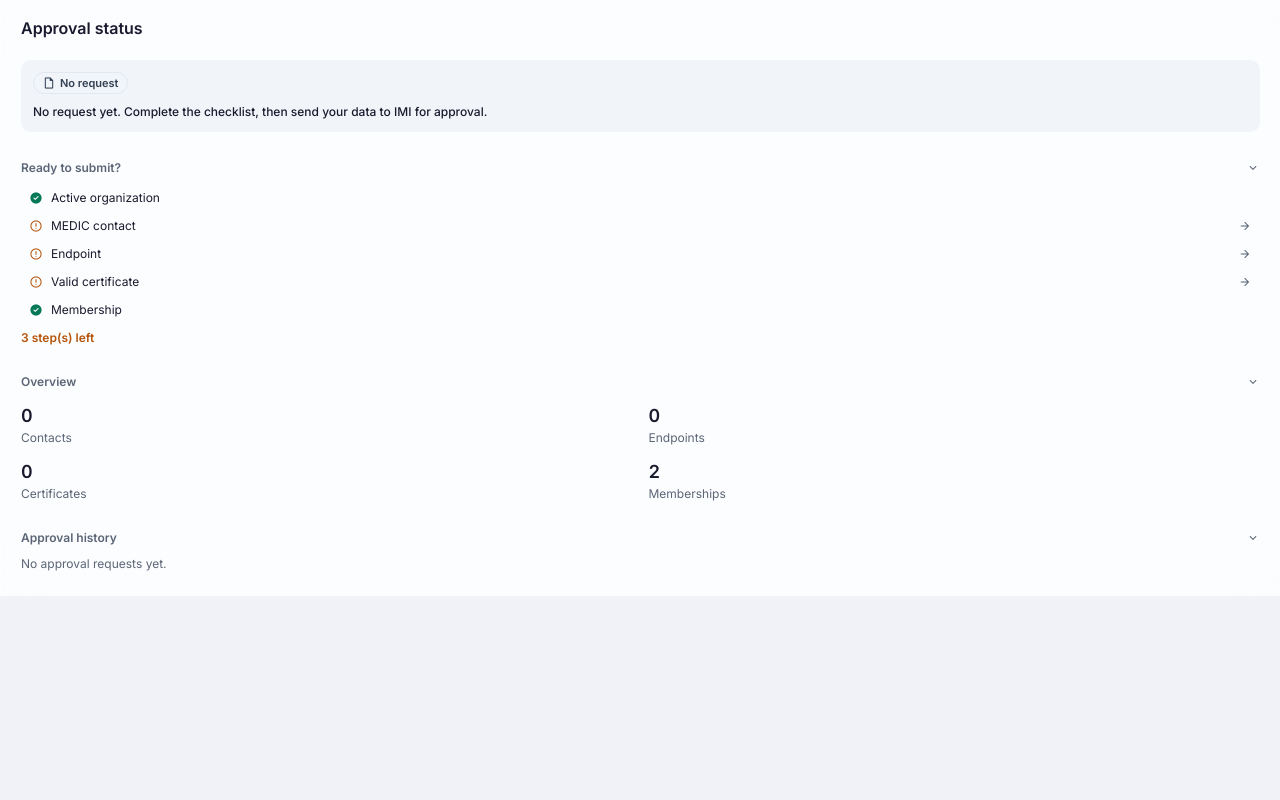
RightPanel › collapses and expands a section from its header
The width and height of the screenshot is (1280, 800).
What coordinates should you click on to do the following:
click the button "Overview"
I would click on:
 (49, 382)
Its box is [15,370,1266,394].
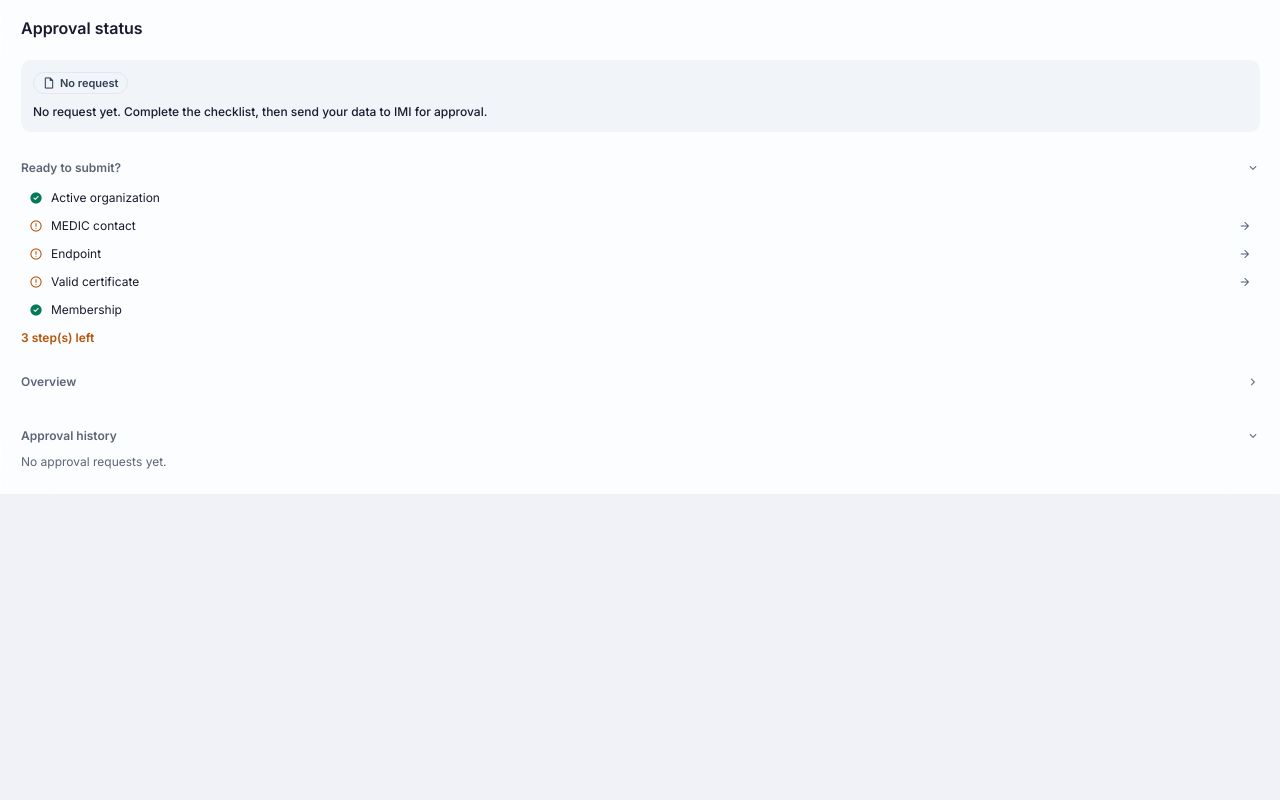
Now the button "Overview" is collapsed
Now the text "Memberships" is gone
What coordinates should you click on to do the following:
click the button "Overview"
I would click on:
 (49, 382)
Its box is [15,370,1266,394].
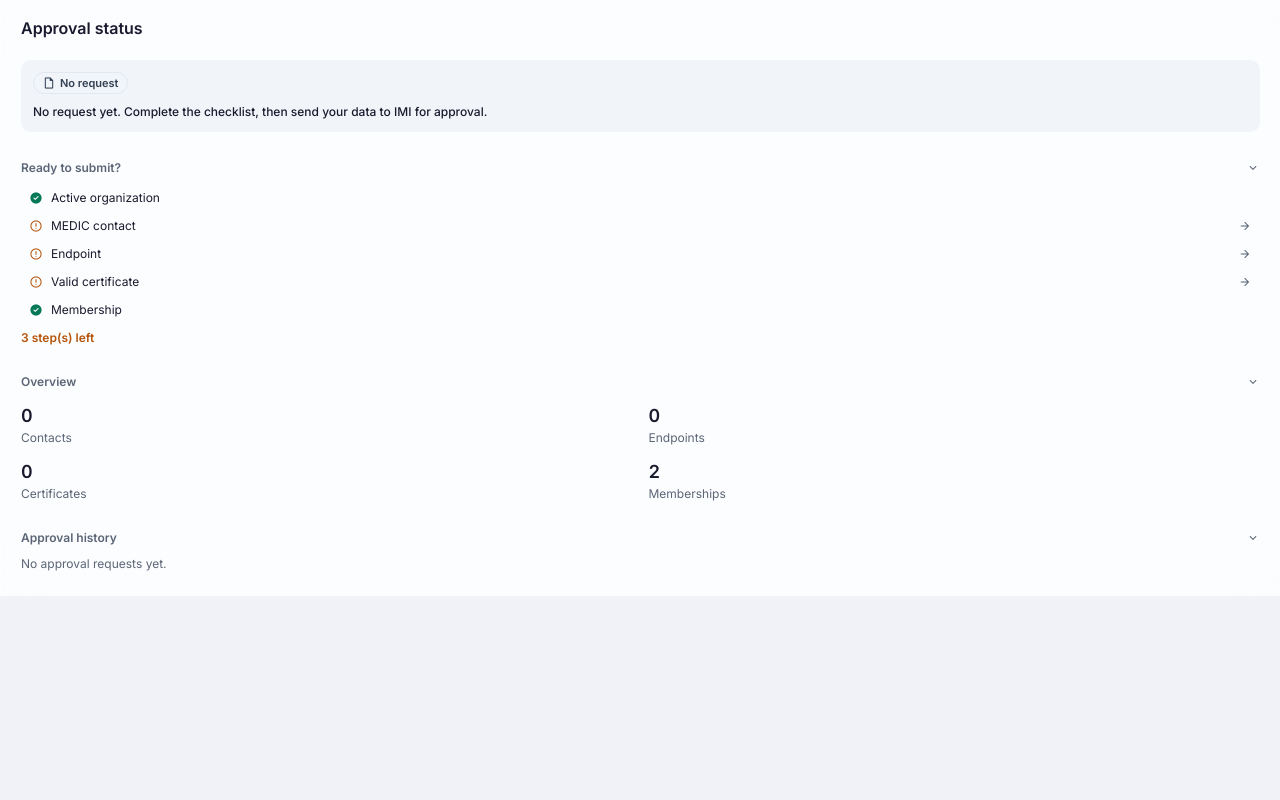
Now the button "Overview" is expanded, box [15,370,1266,394]
Now the text "Memberships" is shown, box [648,486,726,501]
